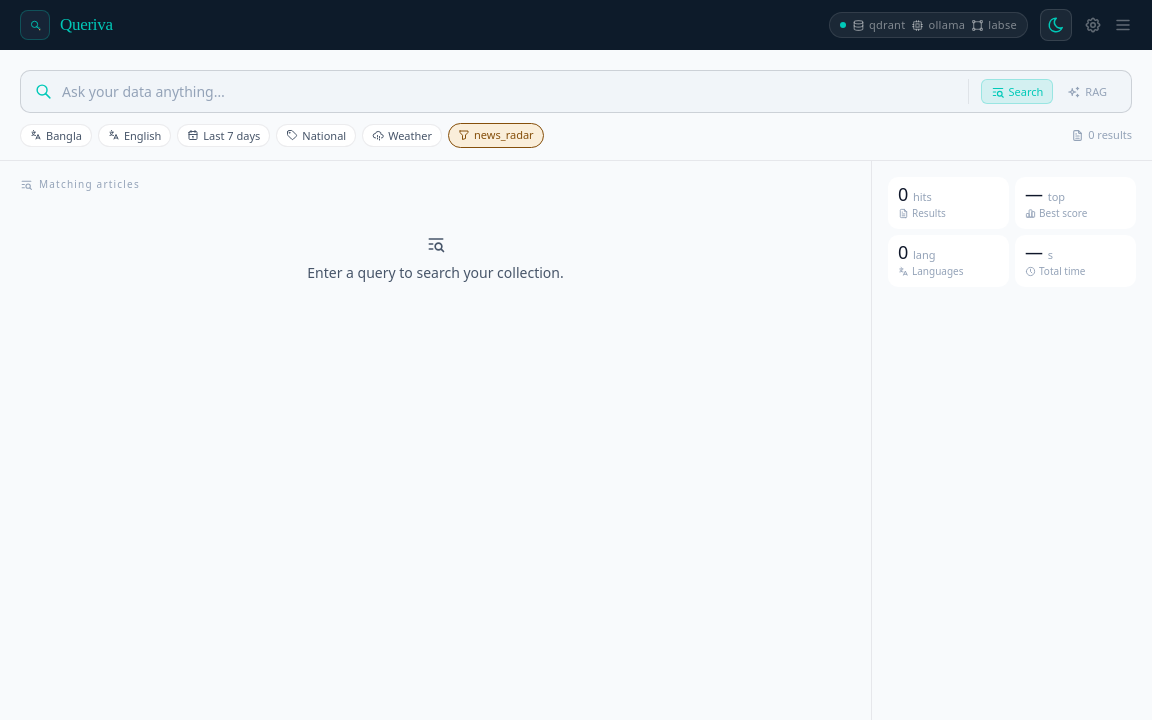
Test: App › should show ai summary after rag search flow
Step 1. Click the radio button labelled "RAG" → (1087, 92), box left=1057, top=79, right=1117, bottom=104
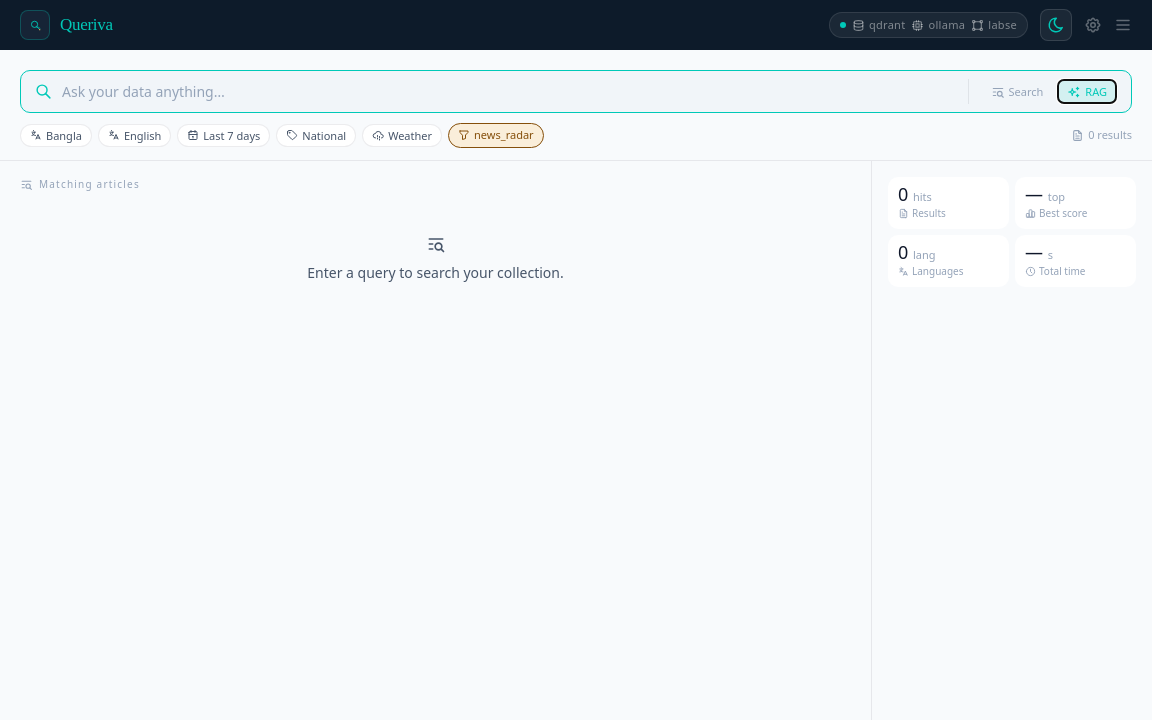
Step 2. Type "floods in Dhaka last week" into the search field named "Search query" → (510, 92), box left=62, top=71, right=958, bottom=112
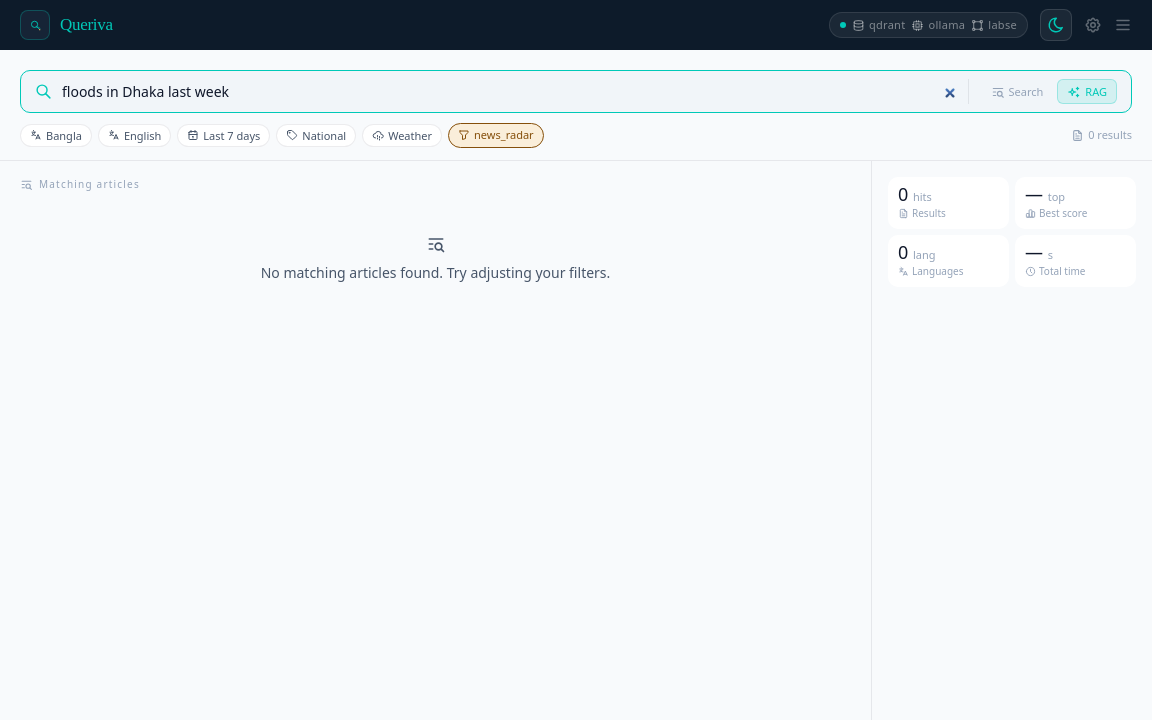
Step 3. Press Enter
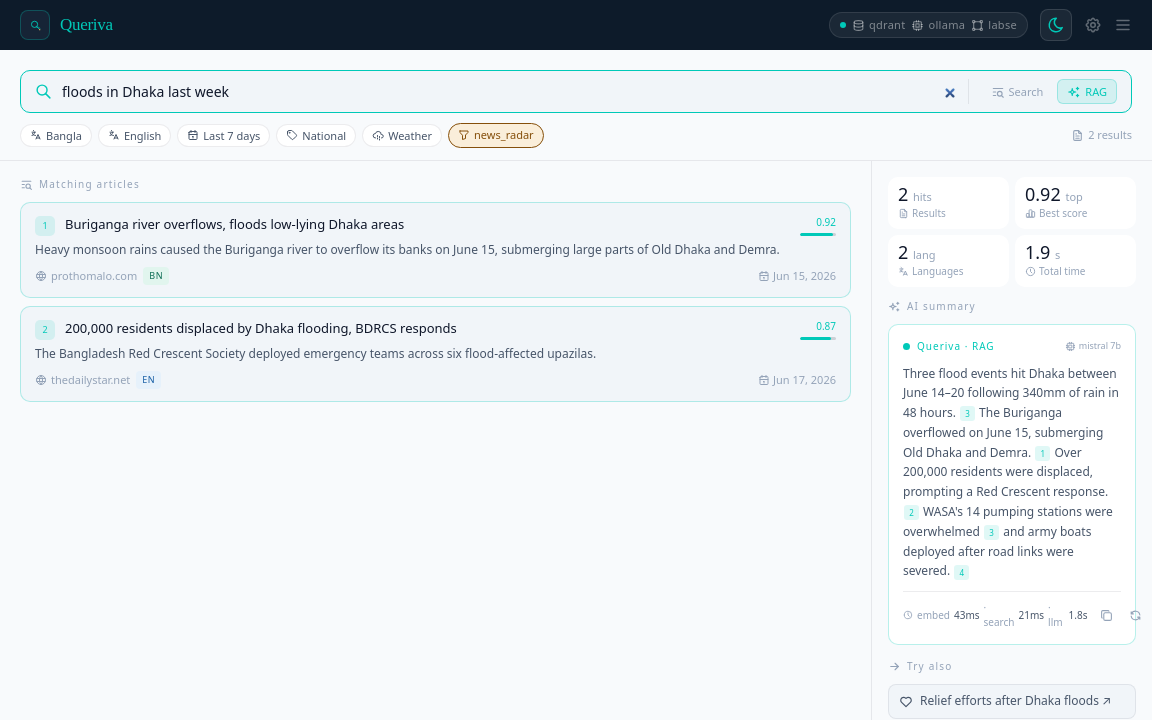
Check: the text "AI summary" is shown, box left=888, top=298, right=976, bottom=312
Check: the text "Three flood events hit Dhaka" is shown, box left=903, top=364, right=1119, bottom=421
